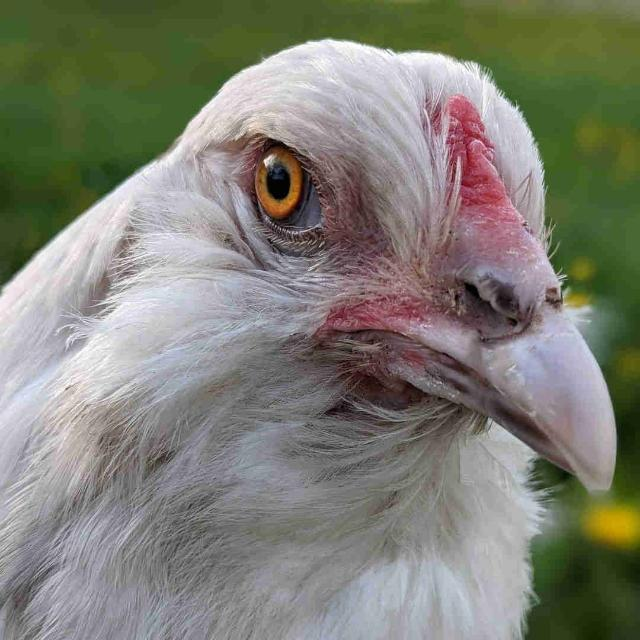Chicken: (0, 38, 619, 640)
